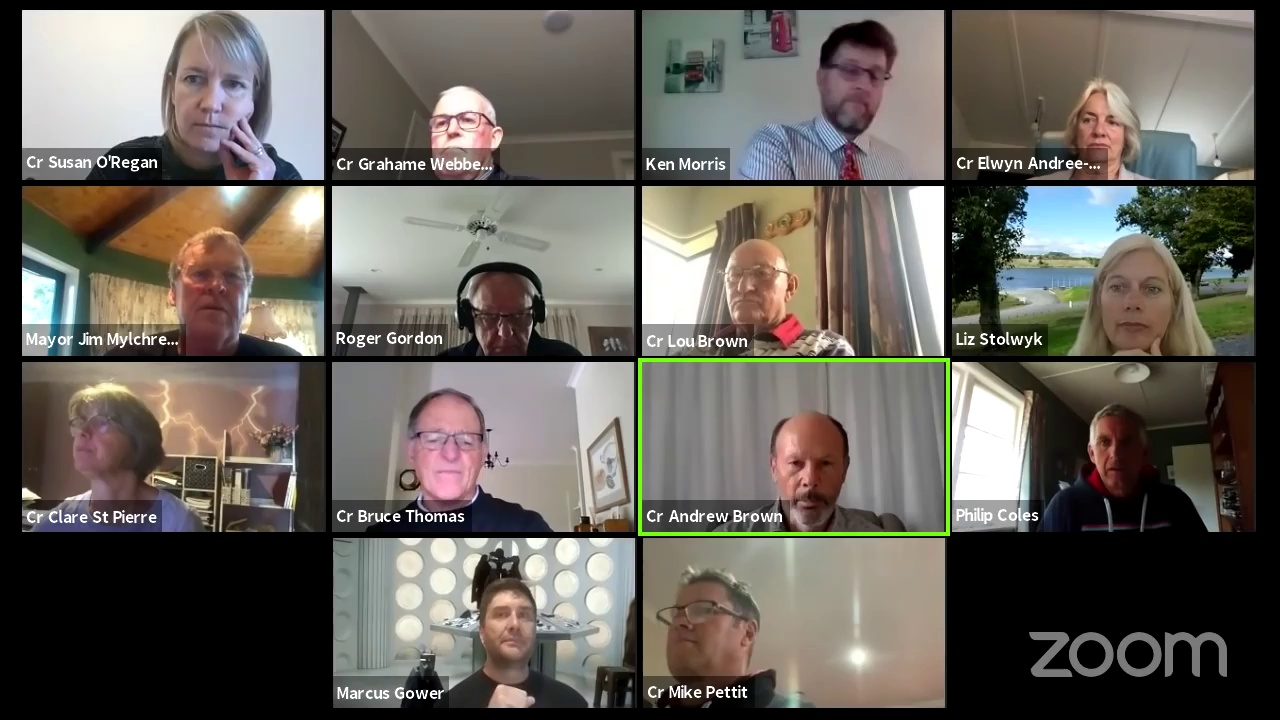Distracted: (66, 389, 151, 474), (463, 282, 535, 347)
Not Distracted: (401, 384, 489, 508), (654, 576, 757, 675), (763, 415, 853, 523), (175, 25, 252, 144), (167, 234, 254, 334), (1098, 246, 1174, 348), (817, 38, 894, 137), (420, 84, 499, 169), (1081, 406, 1157, 491), (720, 250, 793, 323), (477, 585, 543, 664), (1067, 85, 1135, 155)
